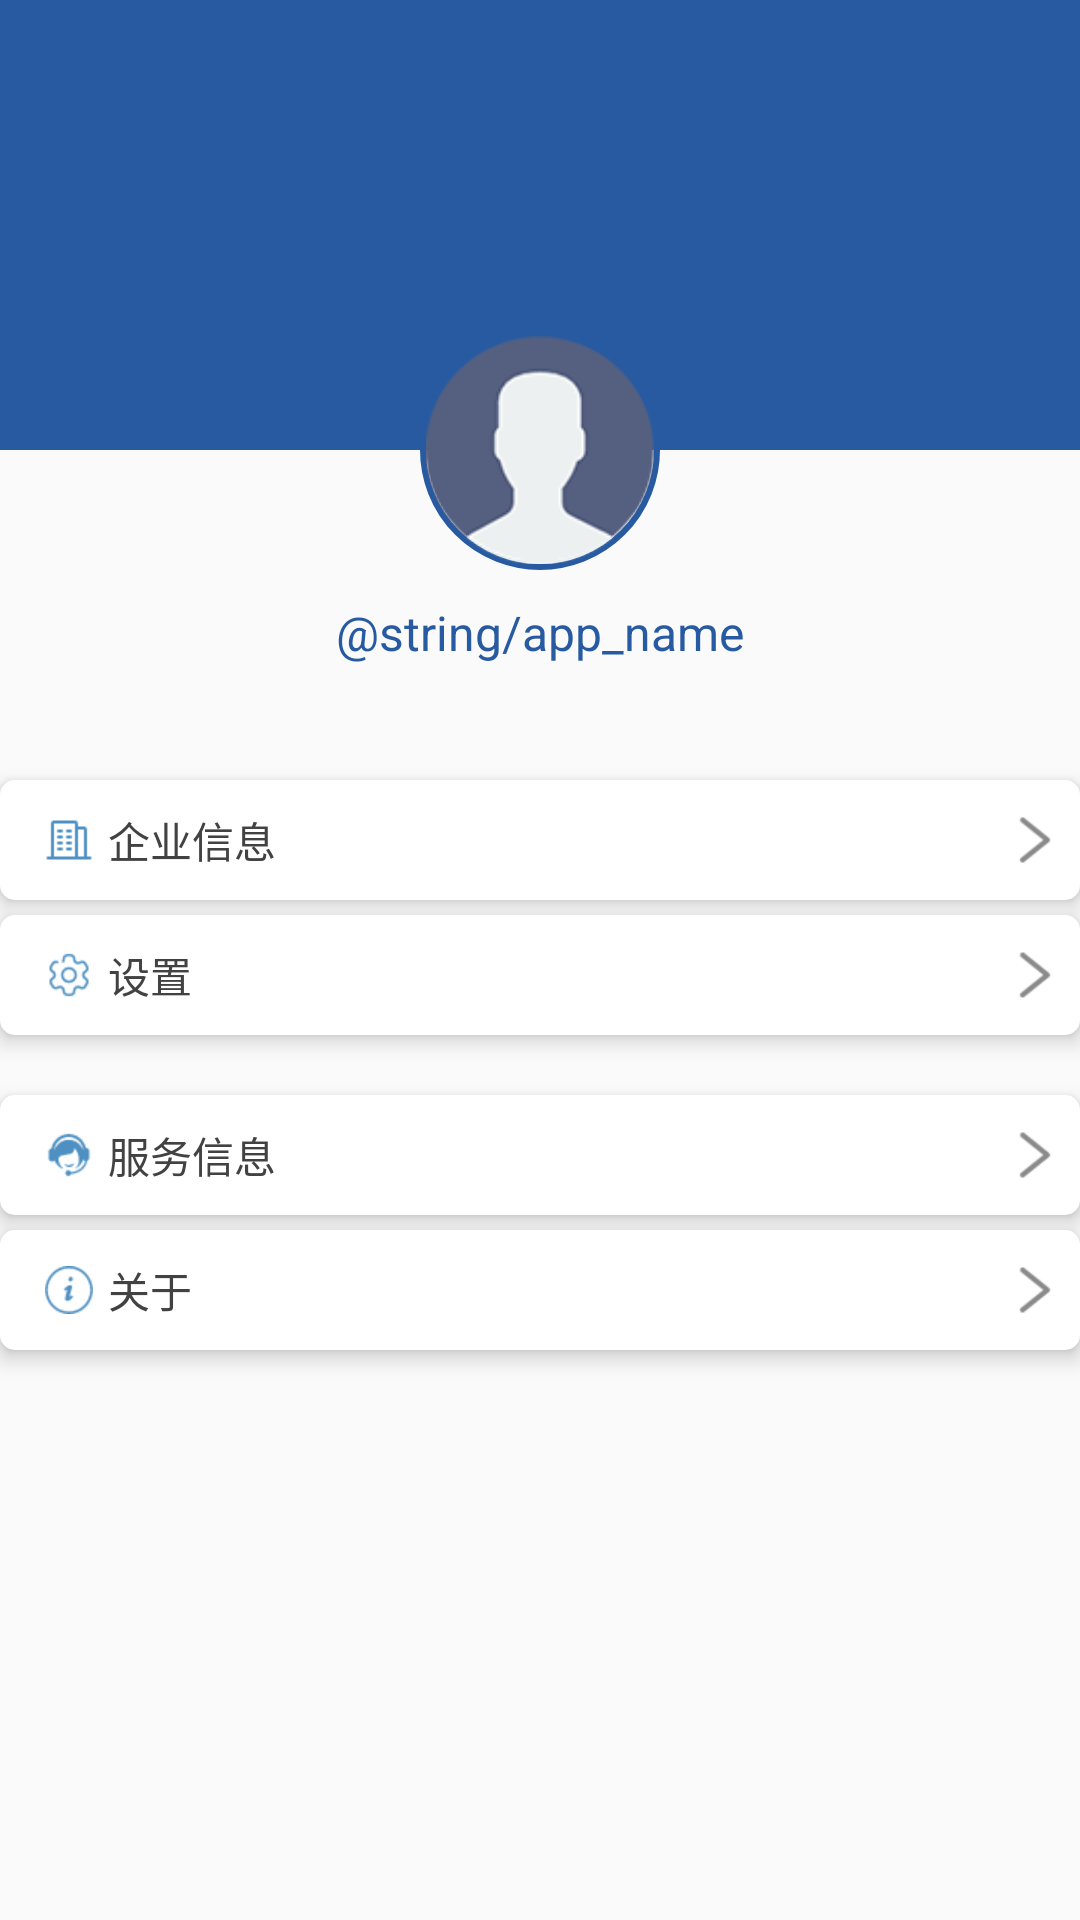

Screen size 1080 x 1920. Icon name, then its center in pixels as (x=x, y=y):
head: (x=540, y=450)
